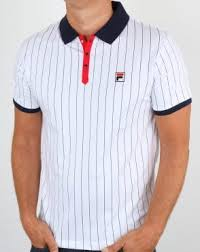C_polo shirt: (13, 13, 199, 240)
